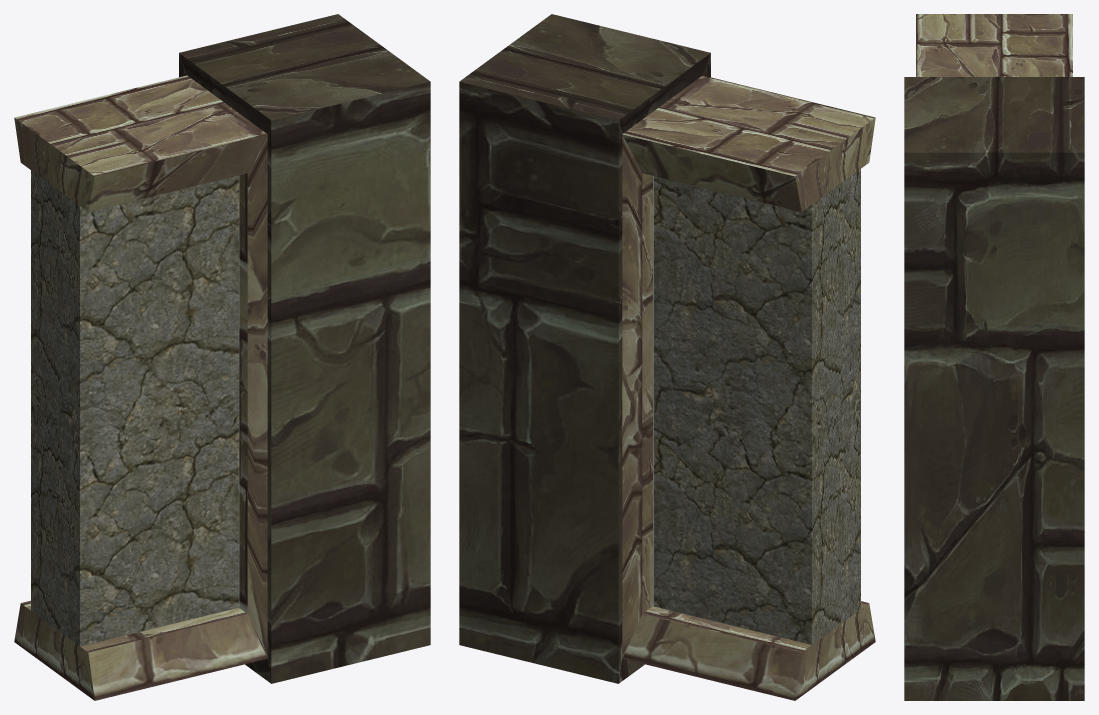
Rendered from gate.fbx.
3 renders of one model, left to right at view 1: azimuth 30°, elevation 25°; view 2: azimuth 150°, elevation 25°; view 3: azimuth 270°, elevation 25°, orthographic. The views are drawn at different scales.
Visible parts, largest first — view 1: gate_left; view 2: gate_left; view 3: gate_left.
Part boxes in pixels (x1,y1,x2,y2): gate_left: (14,14,430,700); gate_left: (459,14,875,700); gate_left: (904,14,1084,700).
Bounding box in the file's own units: 2.19 × 3.58 × 1.07.
Materials: 1 (1 with a texture image).
